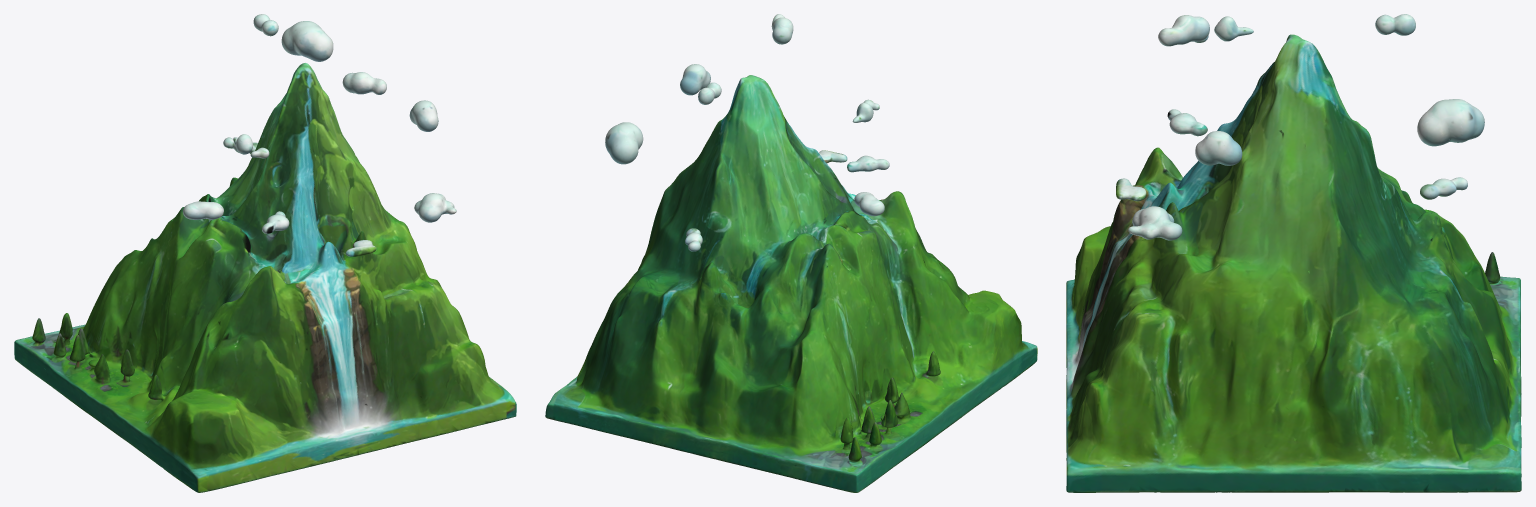
The model's file is montain_opt.glb.
3 renders of one model, left to right at view 1: azimuth 30°, elevation 25°; view 2: azimuth 150°, elevation 25°; view 3: azimuth 270°, elevation 25°, orthographic. The views are drawn at different scales.
Parts seen in each view (by area): view 1: Mesh1_Mesh1.014_Material.001_0; view 2: Mesh1_Mesh1.014_Material.001_0; view 3: Mesh1_Mesh1.014_Material.001_0.
Boxes of the visible parts, <box> form: Mesh1_Mesh1.014_Material.001_0: <box>14,14,516,492</box>; Mesh1_Mesh1.014_Material.001_0: <box>545,14,1037,492</box>; Mesh1_Mesh1.014_Material.001_0: <box>1066,14,1521,492</box>.
Size of the model in its own units: 2 by 2 by 2.
1 material, 1 textured.
